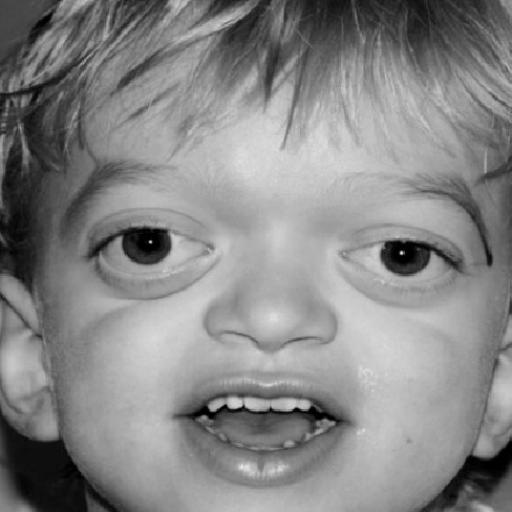Autism: (18, 6, 511, 491)
